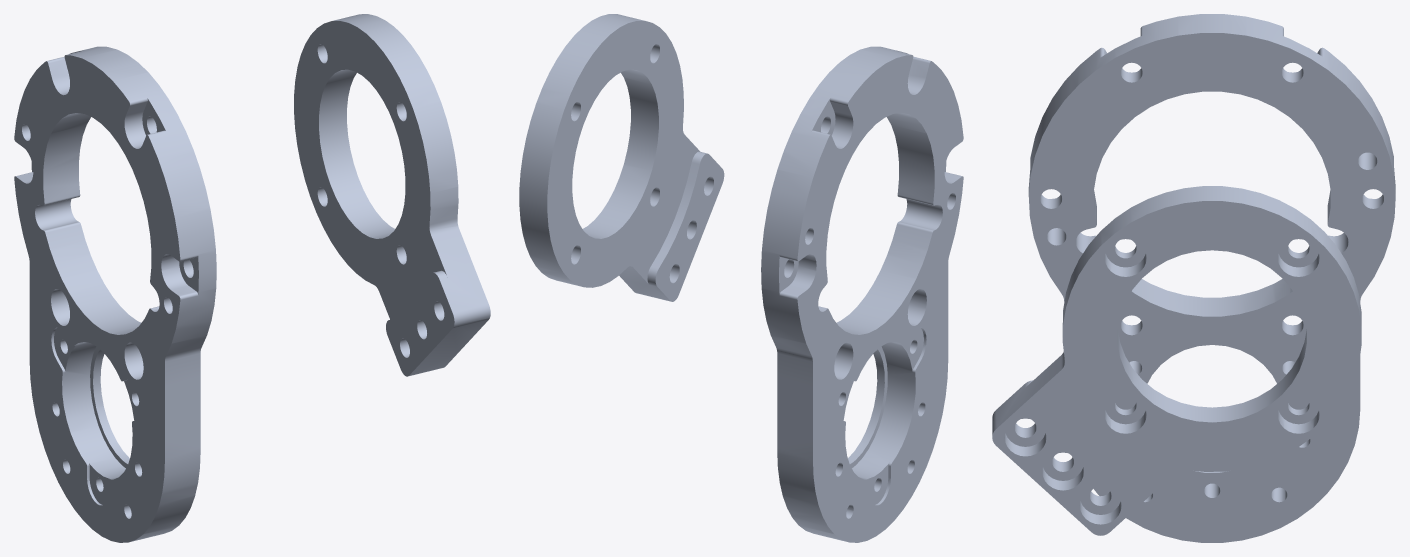
3 views of the same model, side by side, from view 1: azimuth 30°, elevation 25°; view 2: azimuth 150°, elevation 25°; view 3: azimuth 270°, elevation 25° (orthographic). The views are drawn at different scales.
Visible parts, largest first — view 1: ee_base_link_01; view 2: ee_base_link_01; view 3: ee_base_link_01.
Part boxes in pixels (<box>): ee_base_link_01: <box>14,14,490,542</box>; ee_base_link_01: <box>519,14,963,542</box>; ee_base_link_01: <box>992,14,1395,542</box>.
Bounding box in the file's own units: 0.0575 × 0.0874 × 0.0627.
